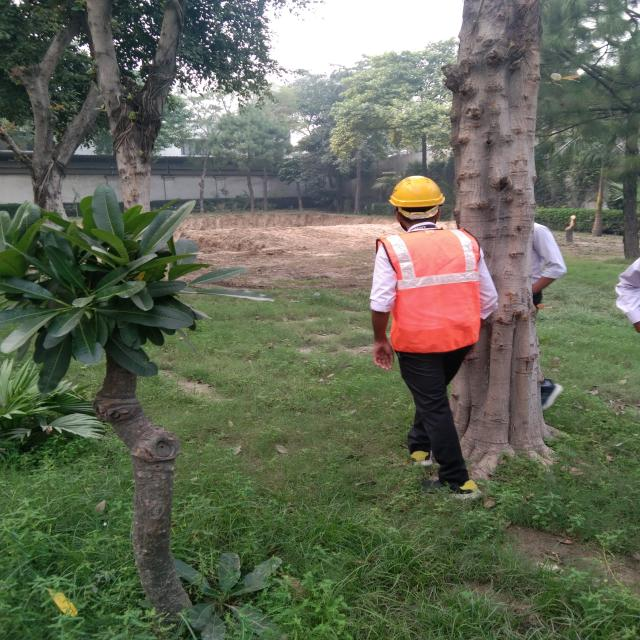safe: (360, 172, 500, 510)
